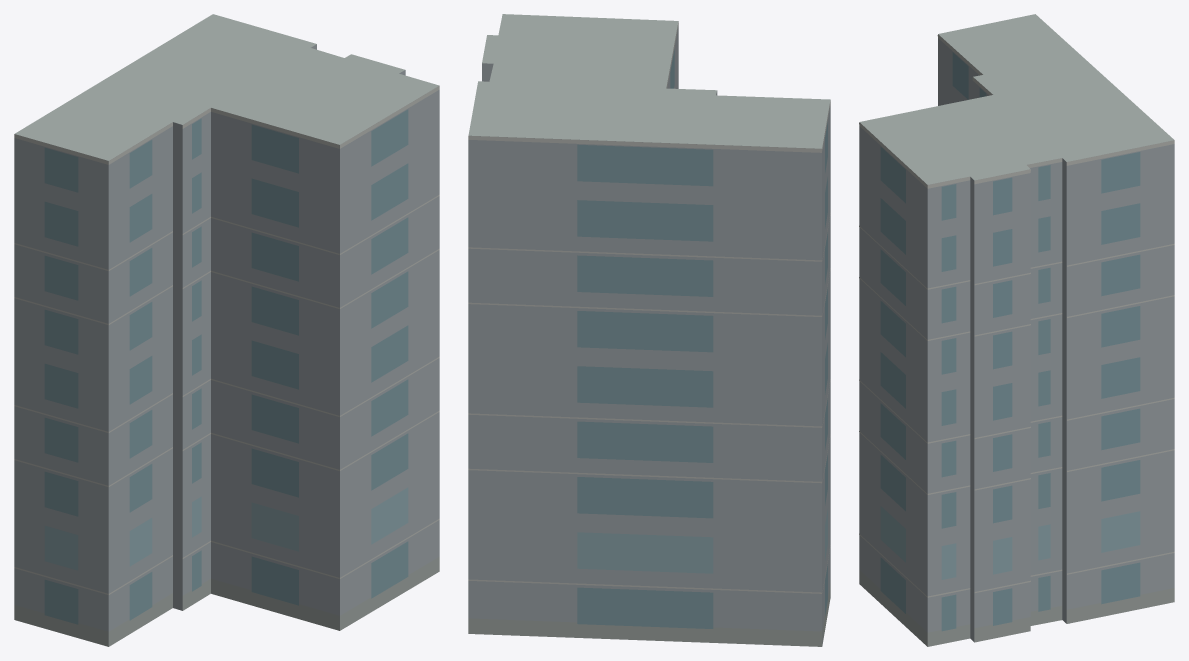
File: survey-upis-33028218.glb
3 views of the same model, side by side, from view 1: azimuth 30°, elevation 25°; view 2: azimuth 150°, elevation 25°; view 3: azimuth 270°, elevation 25° (orthographic). The views are drawn at different scales.
Parts seen in each view (by area): view 1: survey-upis-33028218.tmp; view 2: survey-upis-33028218.tmp; view 3: survey-upis-33028218.tmp.
Part boxes in pixels (x1,y1,x2,y2): survey-upis-33028218.tmp: (14,14,439,646); survey-upis-33028218.tmp: (468,14,830,646); survey-upis-33028218.tmp: (859,14,1174,646).
Size of the model in its own units: 23.28 by 29.3 by 18.15.
